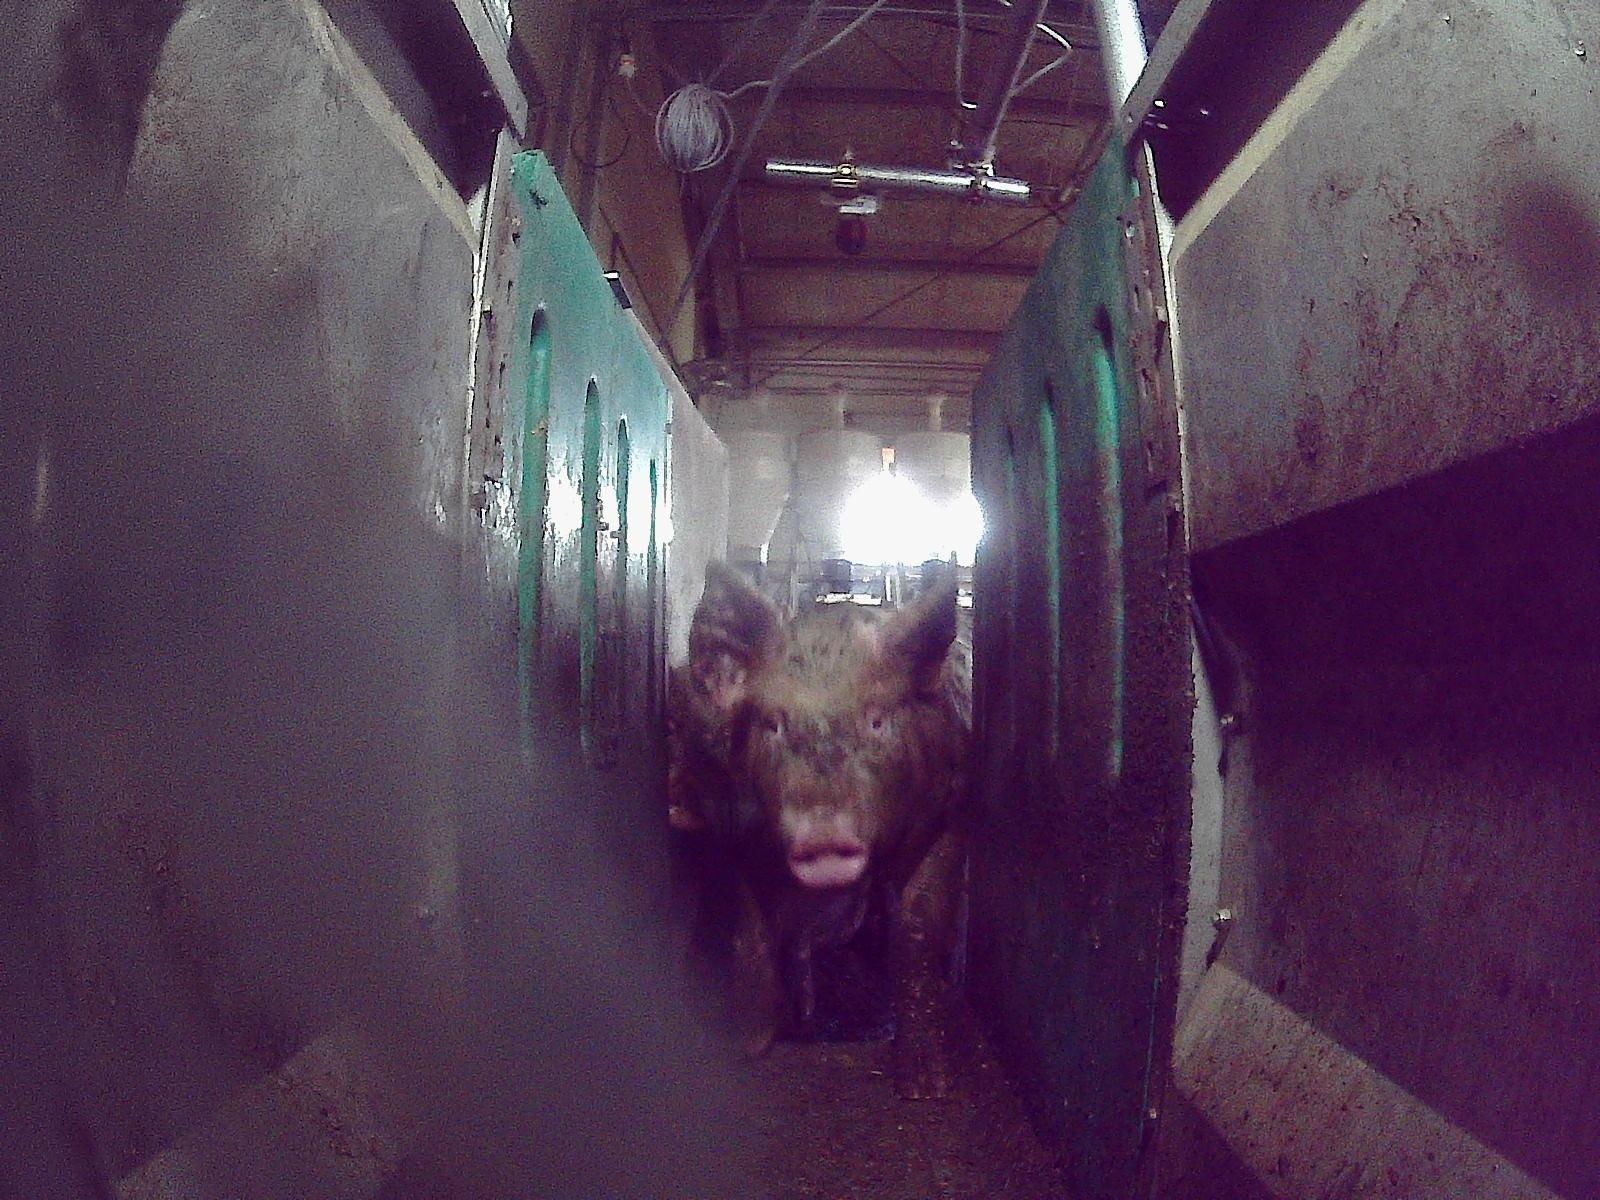Face: (742, 639, 920, 893)
